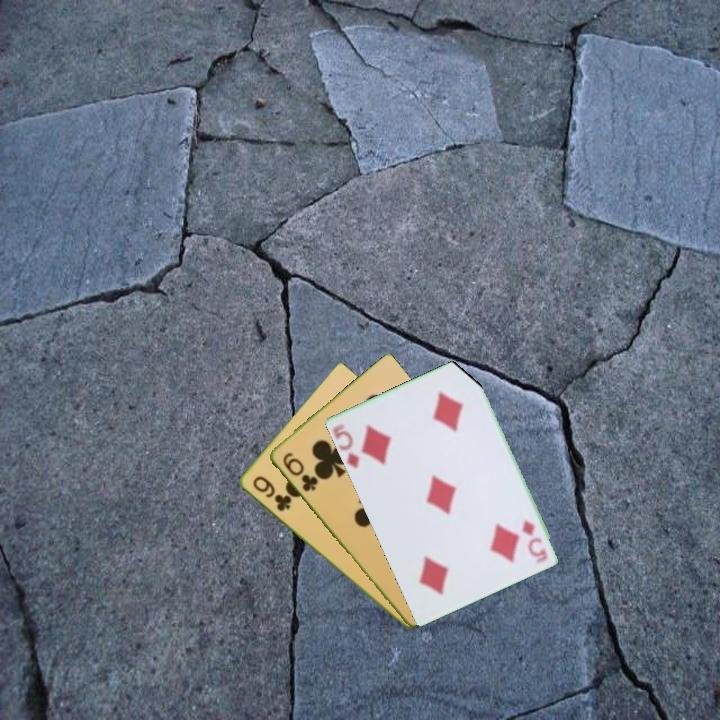5d: (329, 420, 362, 472), (519, 516, 551, 563)
6c: (279, 449, 320, 494)
9c: (249, 472, 293, 515)
